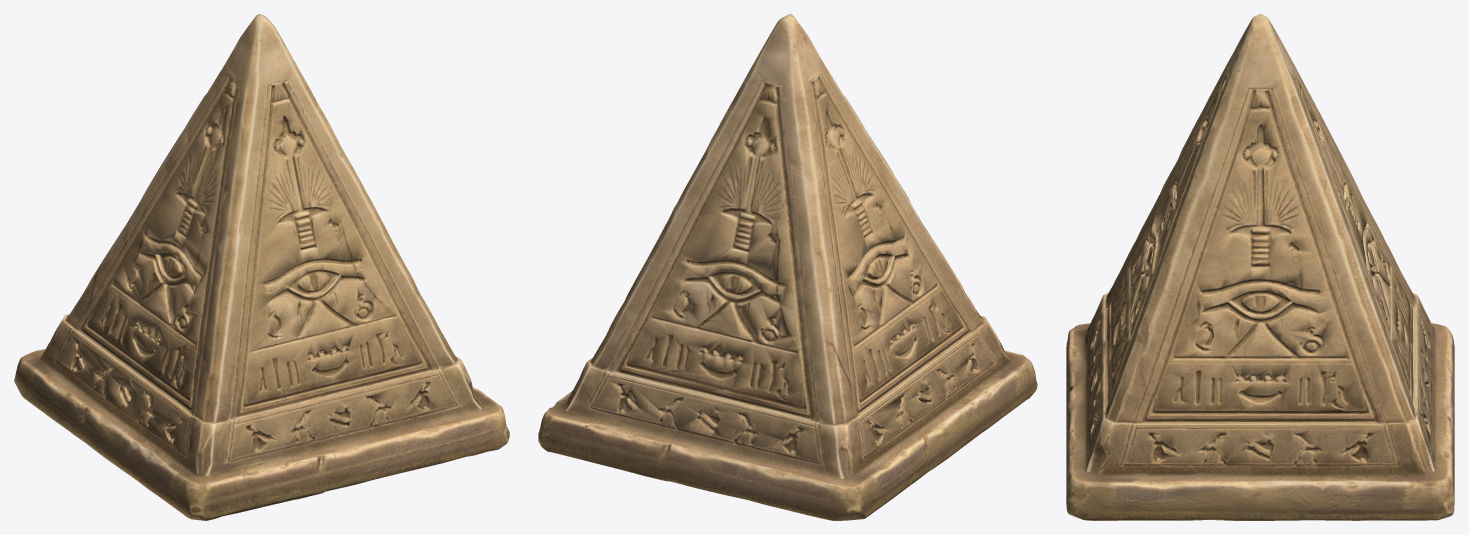
File: WF_EgyptianTombV2_Pyramidion.fbx
3 renders of one model, left to right at view 1: azimuth 30°, elevation 25°; view 2: azimuth 150°, elevation 25°; view 3: azimuth 270°, elevation 25°, orthographic. The views are drawn at different scales.
Visible parts, largest first — view 1: Mesh1.0; view 2: Mesh1.0; view 3: Mesh1.0.
Boxes of the visible parts, x1,y1,x2,y2 form: Mesh1.0: (14, 14, 509, 520); Mesh1.0: (538, 14, 1037, 520); Mesh1.0: (1066, 14, 1454, 520).
Size of the model in its own units: 158 by 191 by 158.
1 material, 1 textured.
